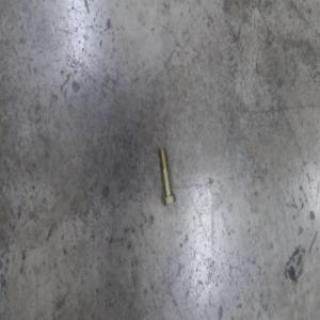Bolttrack_idkeyframe: (156, 145, 175, 206)
